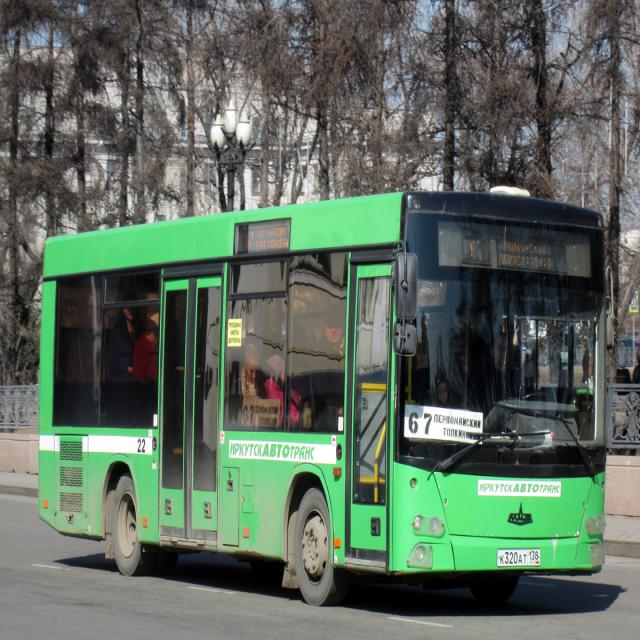number-of-bus: (407, 408, 436, 441)
